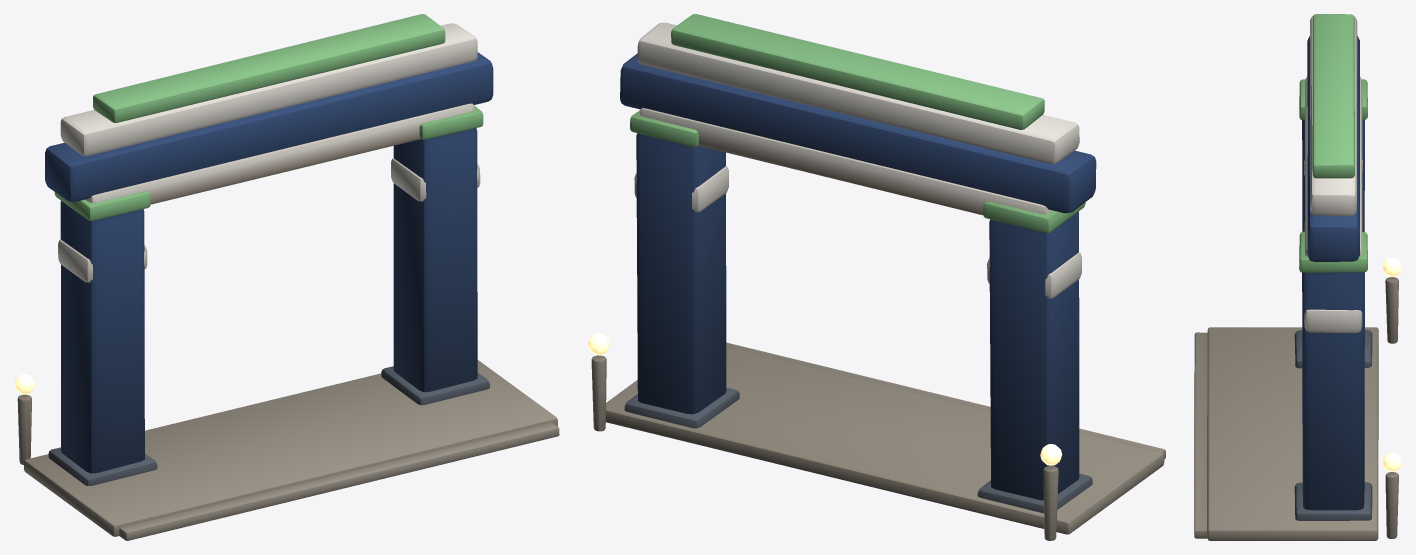
3 renders of one model, left to right at view 1: azimuth 30°, elevation 25°; view 2: azimuth 150°, elevation 25°; view 3: azimuth 270°, elevation 25°, orthographic. The views are drawn at different scales.
Parts seen in each view (by area): view 1: gate_8e58deda; view 2: gate_8e58deda; view 3: gate_8e58deda.
Part boxes in pixels (<box>): gate_8e58deda: <box>14,14,559,540</box>; gate_8e58deda: <box>588,14,1165,540</box>; gate_8e58deda: <box>1194,14,1401,540</box>.
Size of the model in its own units: 5.93 by 4.77 by 2.55.
